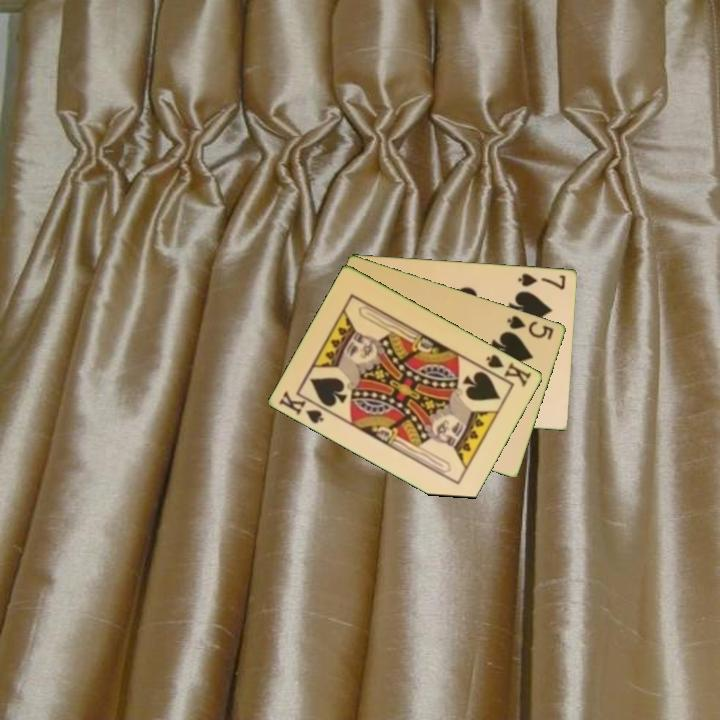5s: (504, 312, 557, 343)
7s: (515, 270, 569, 292)
Ks: (276, 387, 332, 427), (478, 351, 534, 390)
